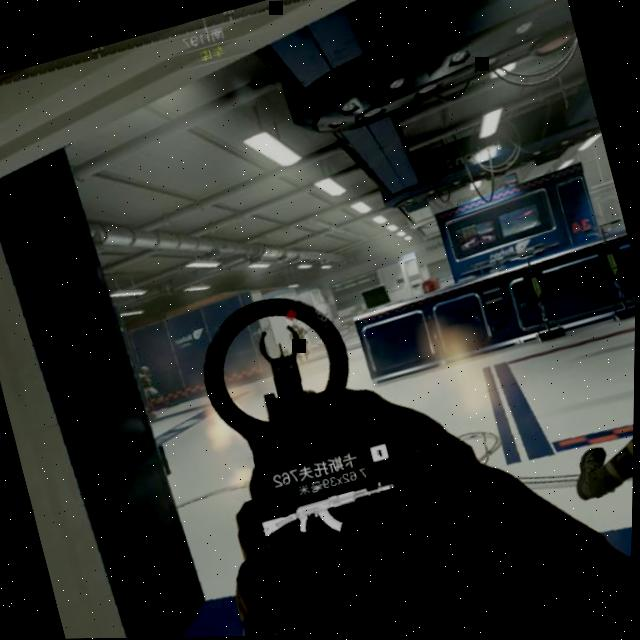MW2_body: (283, 306, 315, 366), (138, 362, 169, 412)
